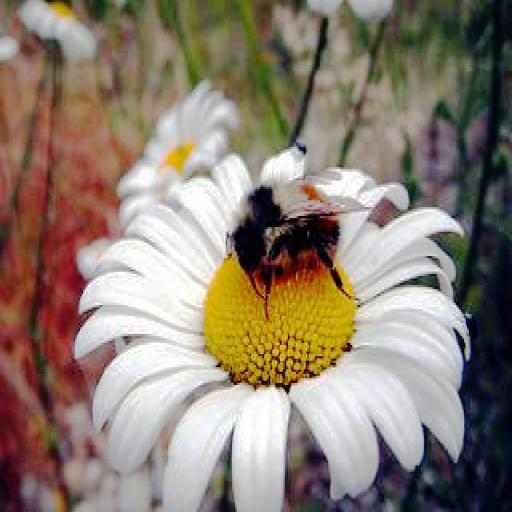daisy: (90, 154, 472, 494), (125, 87, 237, 180), (8, 2, 101, 56)
